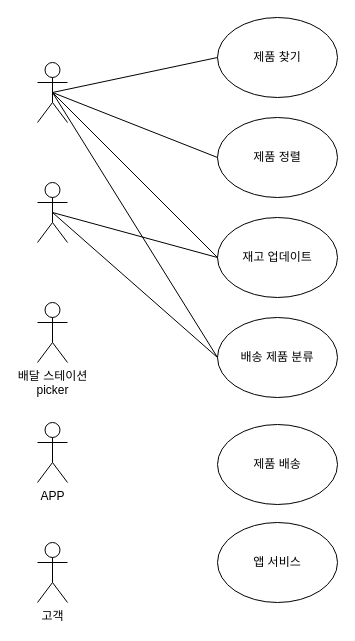
This 355x641 diagram has some shape labels left out. Here are the shapes that lost their labels. From the top down, the centre of each, then its label:
the point at 52,92: 이행센터 picker
the point at 52,212: 분류 센터 picker
